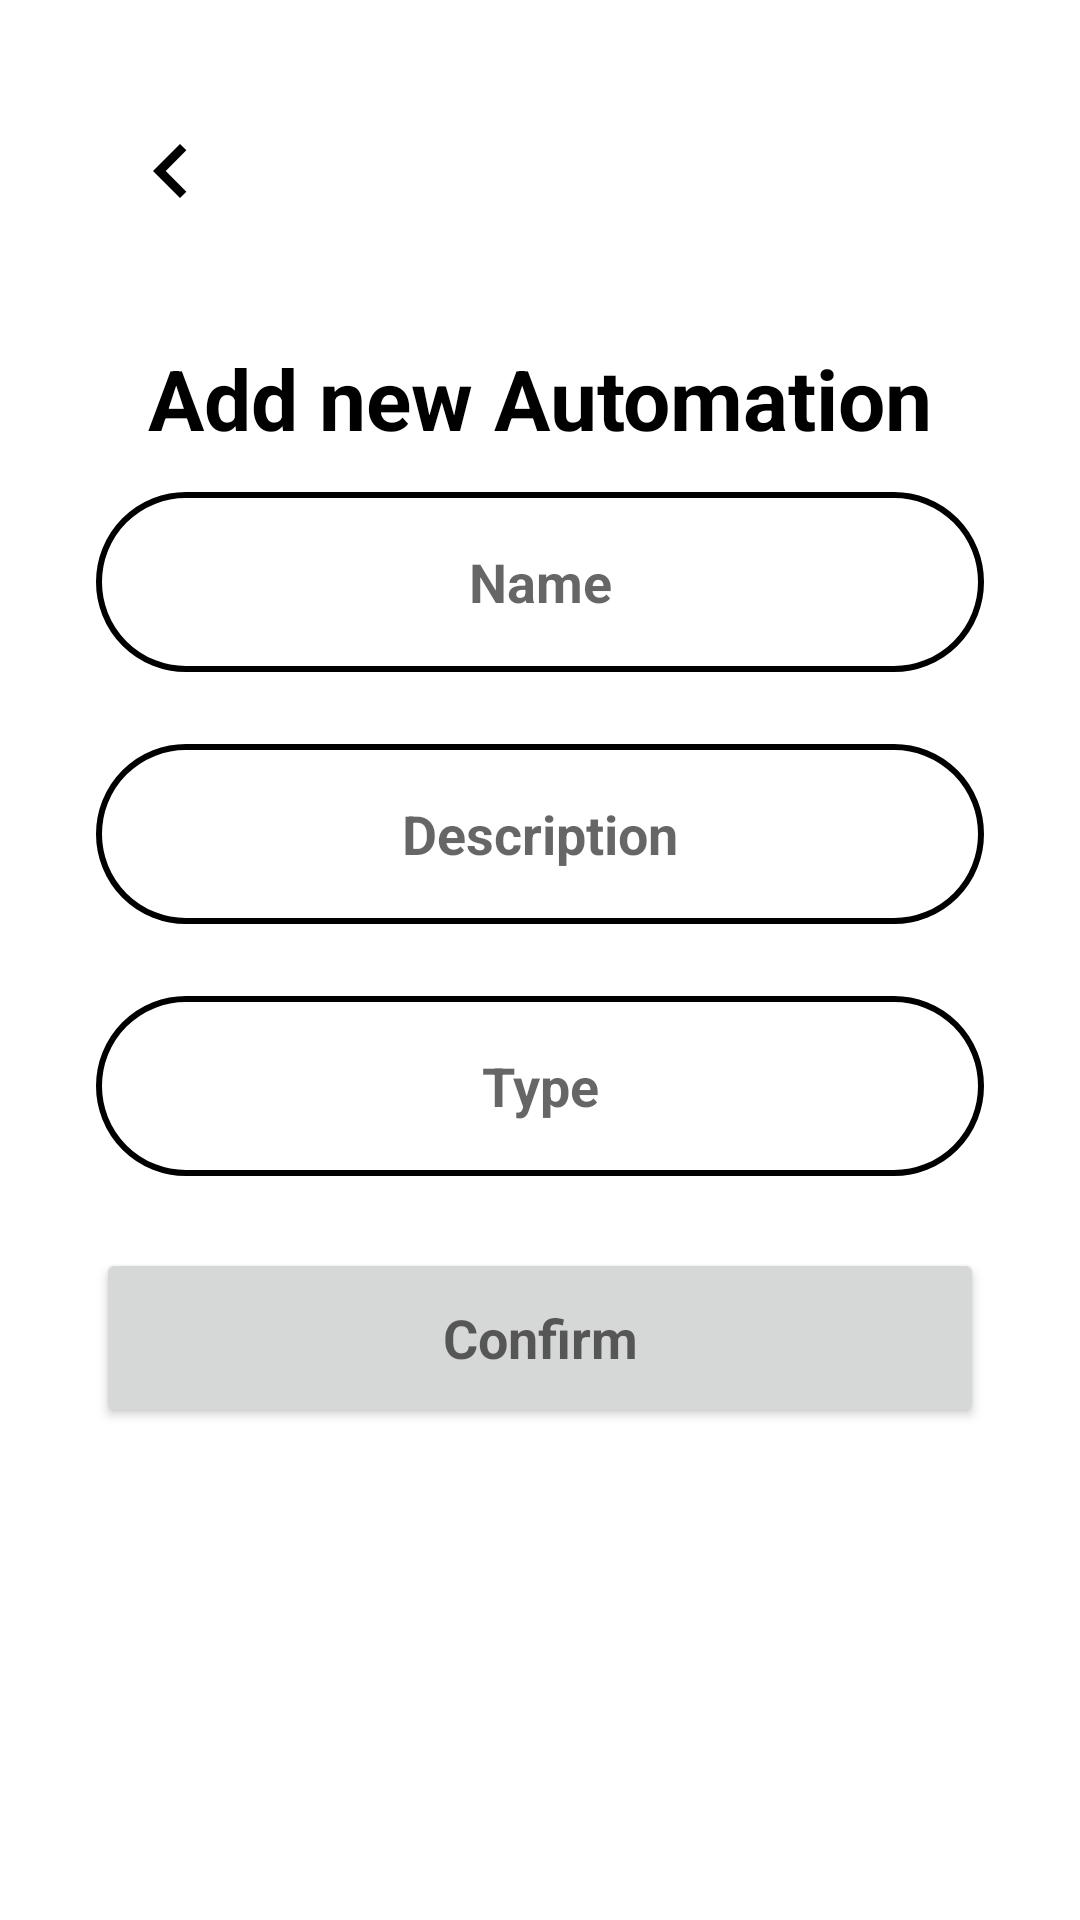

Icons on this 1080×1920 Android screen, each with the point to tap as (x=x, y=y):
Backward: (x=170, y=171)
